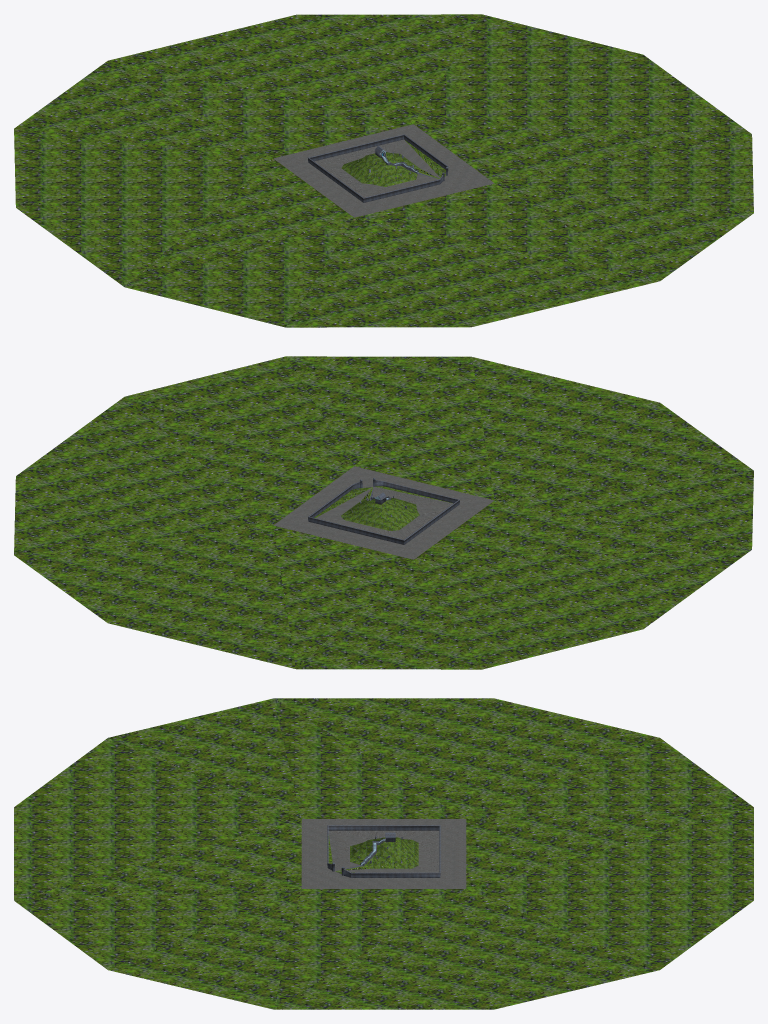
The model's file is ENVO_Graveyard.obj.
3 views of the same model, one above another, from view 1: azimuth 30°, elevation 25°; view 2: azimuth 150°, elevation 25°; view 3: azimuth 270°, elevation 25° (orthographic).
Parts seen in each view (by area): view 1: Graveyard; view 2: Graveyard; view 3: Graveyard.
Part boxes in pixels (bbox=[...]): Graveyard: bbox=[14, 14, 753, 327]; Graveyard: bbox=[14, 356, 753, 669]; Graveyard: bbox=[14, 698, 753, 1009].
Size of what is drawn, in the model's own units: 27336 by 871 by 27473.
28 materials, 28 textured.
